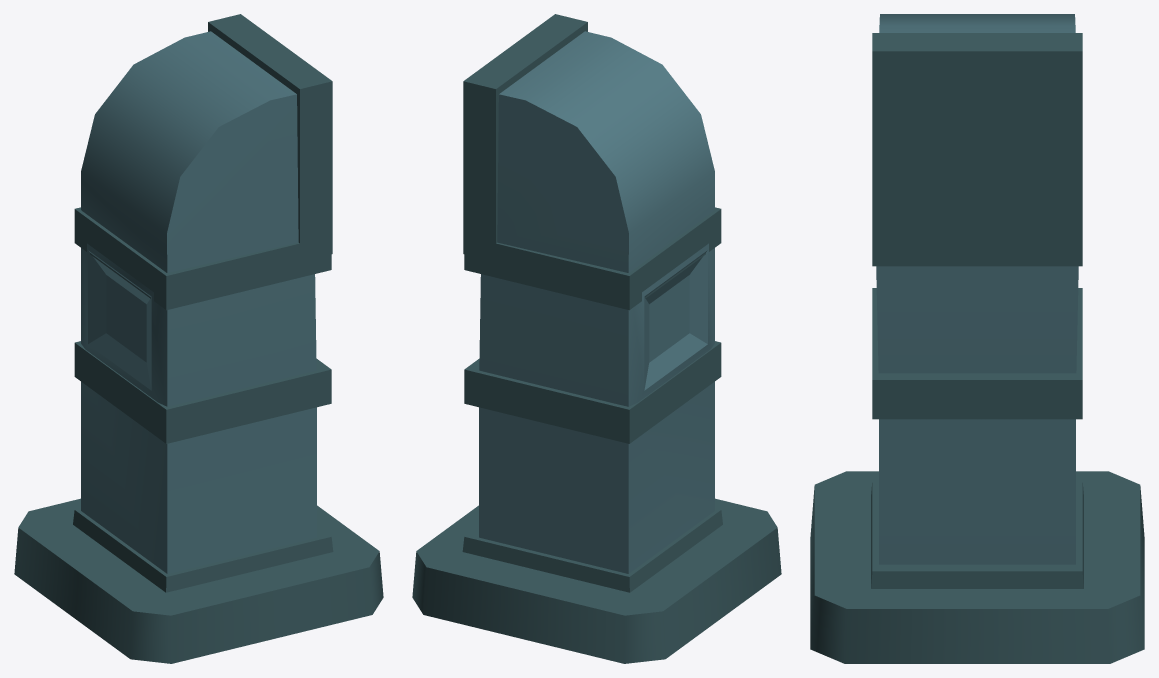
The model's file is Vent_2_D_5.fbx.
The picture shows the model from 3 angles, left to right: view 1: azimuth 30°, elevation 25°; view 2: azimuth 150°, elevation 25°; view 3: azimuth 270°, elevation 25°; orthographic projection. The views are drawn at different scales.
Visible parts, largest first — view 1: Vent_2_D_5; view 2: Vent_2_D_5; view 3: Vent_2_D_5.
Boxes of the visible parts, <box> form: Vent_2_D_5: <box>14,14,383,663</box>; Vent_2_D_5: <box>412,14,781,663</box>; Vent_2_D_5: <box>810,14,1144,663</box>.
Size of the model in its own units: 56.66 by 111 by 56.66.
